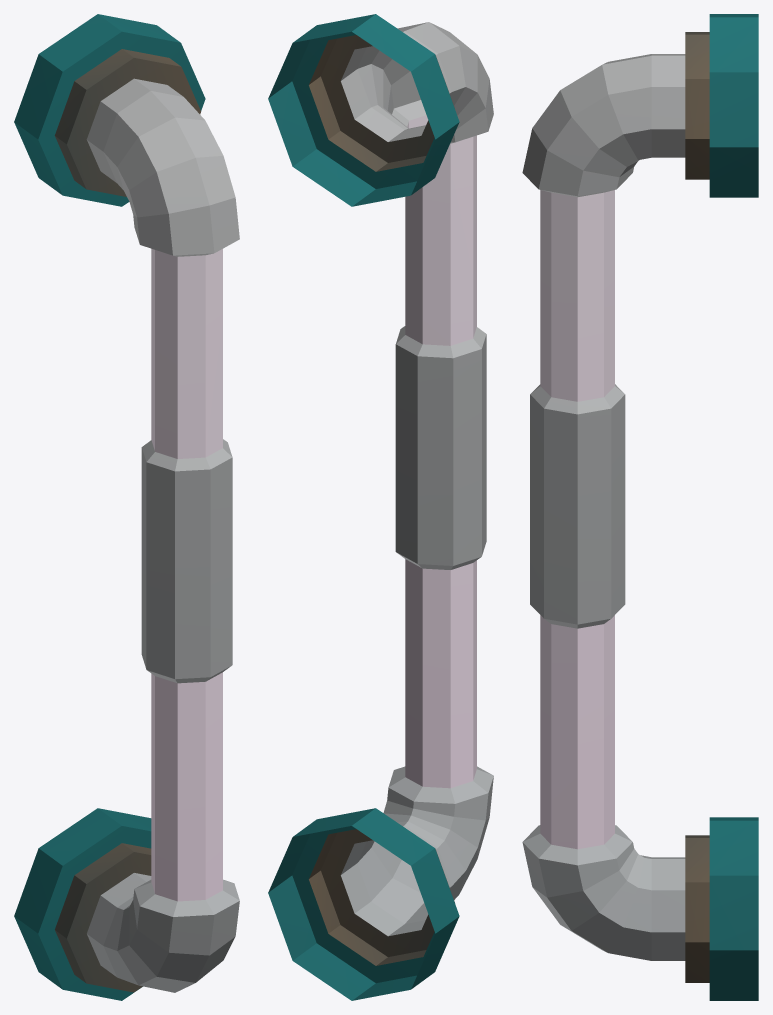
Rendered from Pipe_U_shaped.fbx.
The picture shows the model from 3 angles, left to right: view 1: azimuth 30°, elevation 25°; view 2: azimuth 150°, elevation 25°; view 3: azimuth 270°, elevation 25°; orthographic projection.
Parts seen in each view (by area): view 1: Pipe_U_shaped; view 2: Pipe_U_shaped; view 3: Pipe_U_shaped.
Part boxes in pixels (x1,y1,x2,y2): Pipe_U_shaped: (14, 14, 239, 1000); Pipe_U_shaped: (268, 14, 493, 1000); Pipe_U_shaped: (522, 14, 758, 1000).
Bounding box in the file's own units: 32.45 × 180 × 39.19.
